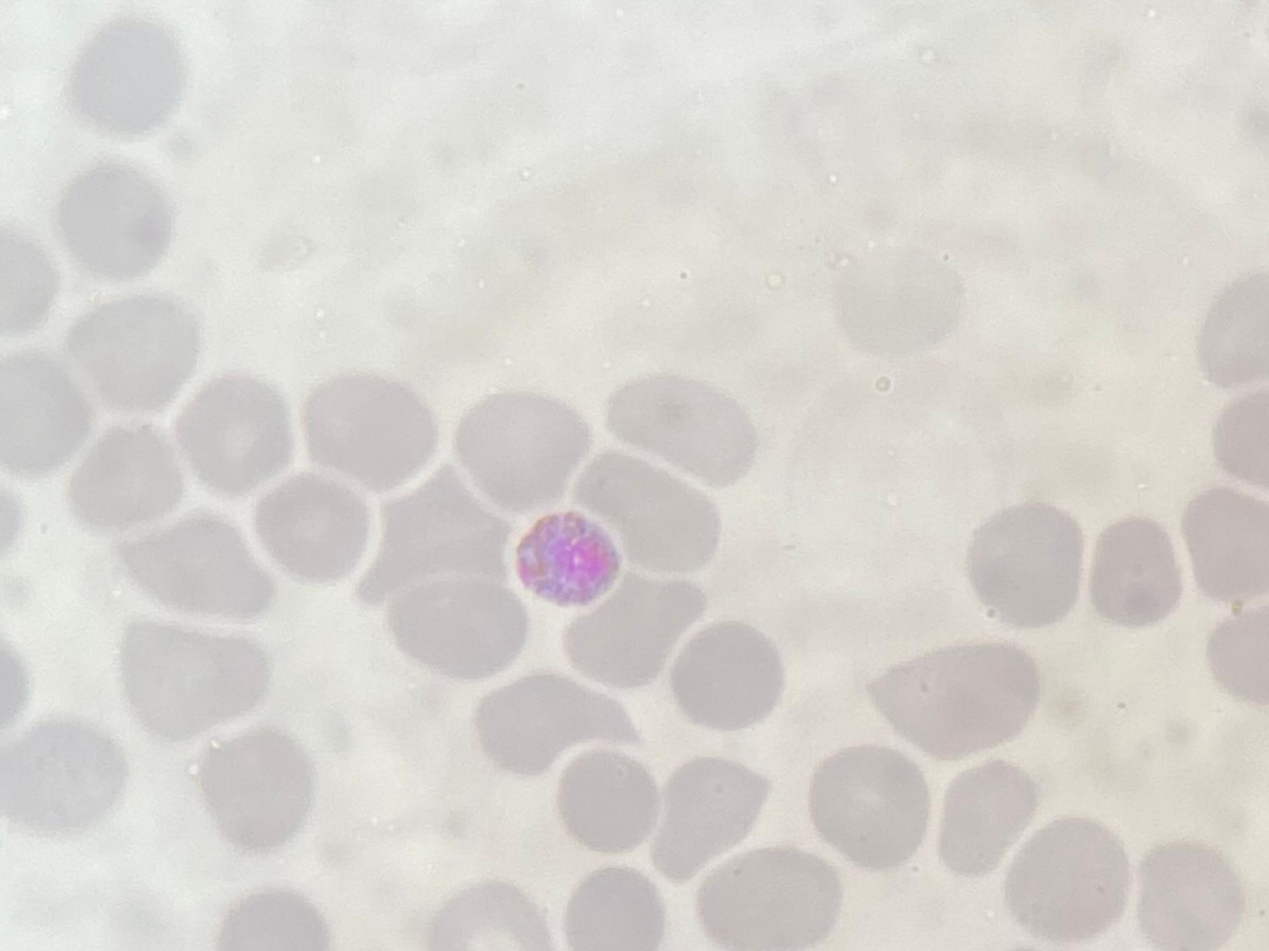Infected: (511, 507, 620, 614)
Uninfected: (864, 635, 1040, 763), (357, 463, 508, 597), (608, 364, 759, 495), (119, 622, 275, 740), (579, 446, 724, 571), (123, 507, 279, 622), (478, 664, 640, 774), (449, 384, 595, 505), (562, 565, 705, 687), (690, 842, 836, 951), (969, 492, 1084, 630), (1007, 807, 1127, 935), (306, 375, 438, 490), (0, 710, 123, 833), (194, 723, 314, 847), (652, 759, 774, 878), (57, 159, 175, 280), (178, 371, 300, 487), (73, 292, 195, 408), (66, 14, 187, 130), (383, 576, 526, 674), (1135, 829, 1248, 951), (815, 741, 922, 869), (258, 468, 370, 587), (0, 349, 93, 486), (670, 622, 783, 733), (73, 421, 182, 536), (939, 759, 1034, 877), (557, 750, 658, 856), (1088, 516, 1179, 627), (1183, 488, 1269, 605), (568, 869, 664, 951)
